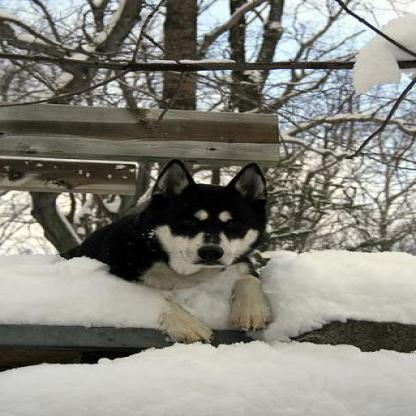Siberian_husky: (60, 155, 274, 342)
